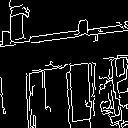cube: (5, 13, 36, 47)
